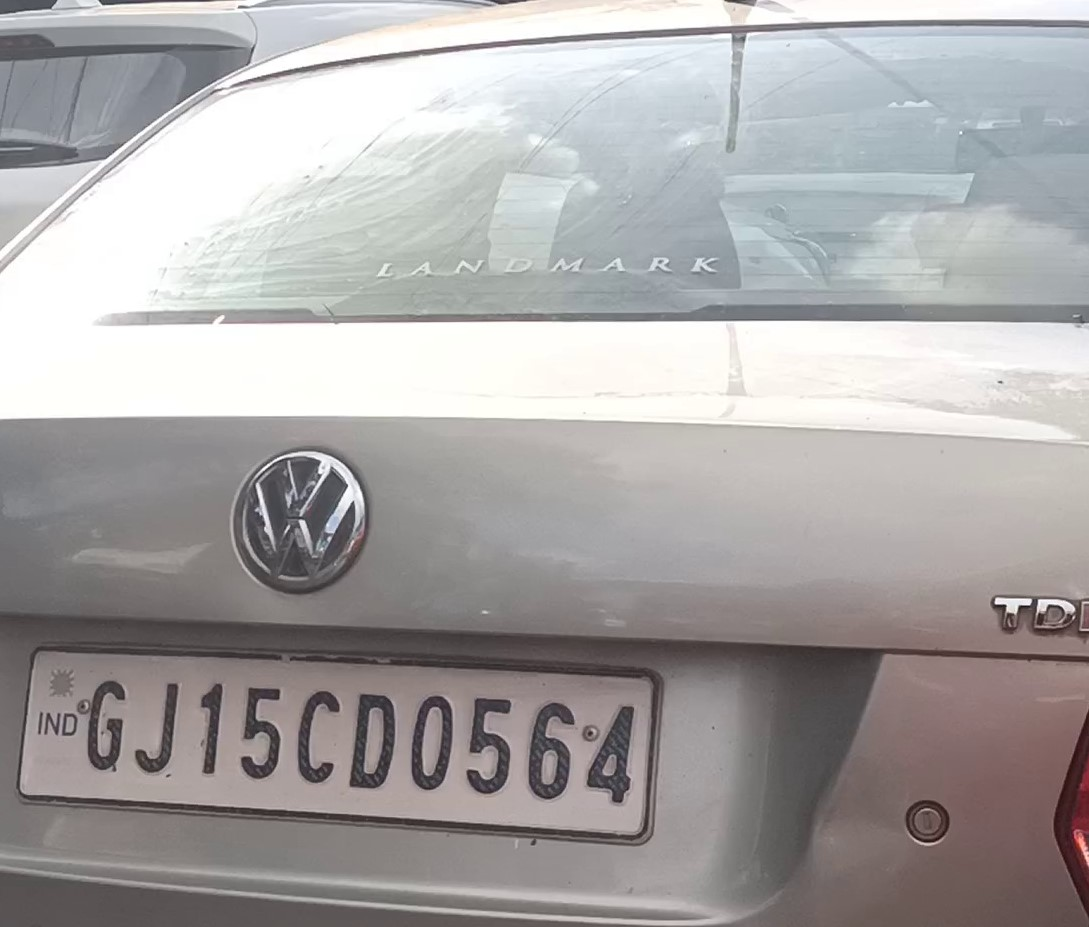GJ15CD0564: (16, 652, 653, 837)
